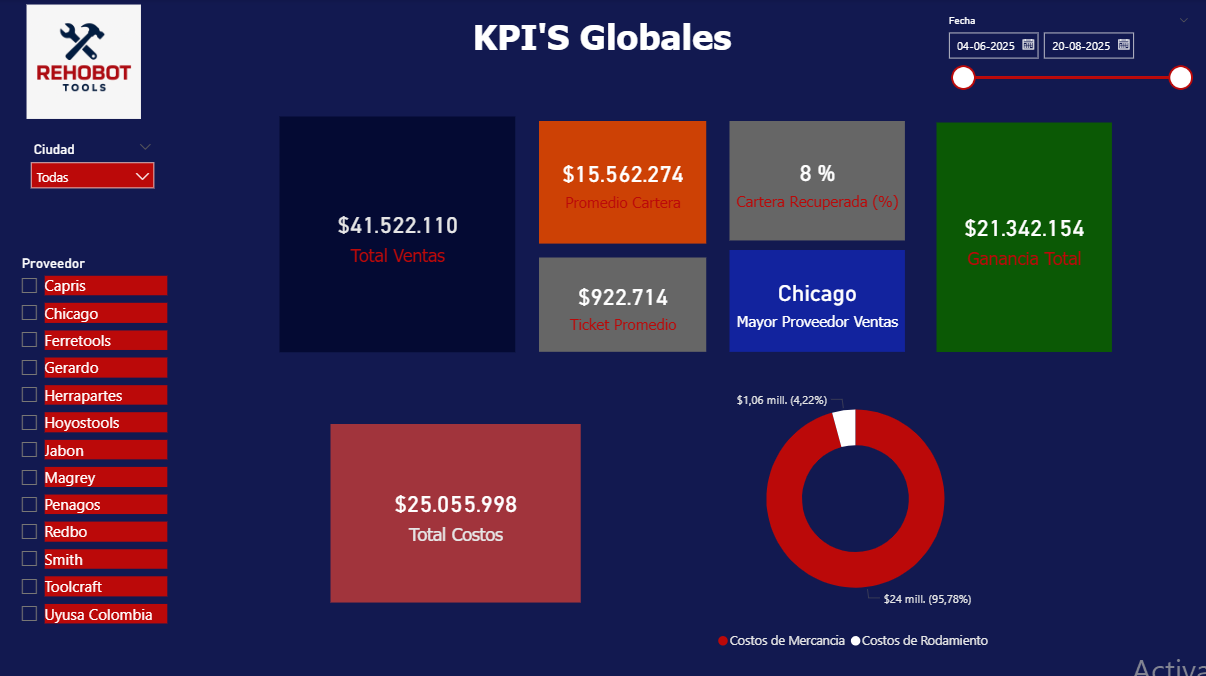

The dashboard page shown, as its layout file describes it:
{"tool":"powerbi","page":{"name":"KPI'S","canvas":[1280,720],"ordinal":0},"visuals":[{"type":"image","box":[23.7,1.7,131.8,131.8],"z":0},{"type":"slicer","fields":{"Values":["Calendario.Fecha"]},"box":[994.1,12.7,279.9,90.7],"z":2000},{"type":"card","fields":{"Values":["Medidas.Proveedor_MayorVentas"]},"box":[774.1,267,185.9,108.2],"z":3000},{"type":"slicer","fields":{"Values":["Ventas_Diarias.Proveedor"]},"box":[11.8,267,172.4,419.2],"z":4000},{"type":"slicer","fields":{"Values":["Ventas_Diarias.Ciudad"]},"box":[23.7,147,150.4,69.3],"z":5000},{"type":"card","fields":{"Values":["Medidas.Ticket_Promedio"]},"box":[573,275.5,177.5,99.7],"z":6000},{"type":"card","fields":{"Values":["Medidas.Total_Ventas"]},"box":[296.9,125.6,250.1,250.1],"z":7000},{"type":"card","fields":{"Values":["Medidas.Ganancia Total"]},"box":[993.8,131.8,185.9,243.4],"z":8000},{"type":"card","fields":{"Values":["Medidas.Cartera Recuperada (%)"]},"box":[774.1,130.1,185.9,126.8],"z":9000},{"type":"card","fields":{"Values":["Medidas.Promedio Cartera"]},"box":[572.4,130.7,177.5,130.1],"z":10000},{"type":"donutChart","fields":{"Y":["Medidas.Costos de Mercancia","Medidas.Costos de Rodamiento"]},"box":[740.3,390.4,336.3,311],"z":11000},{"type":"card","fields":{"Values":["Medidas.Total Costos"]},"box":[351.6,451.3,265.4,189.3],"z":12000},{"type":"textbox","box":[475.6,12.7,327.7,77.9],"z":13000}]}

Visuals, with their boxes on the page's 1280x720 design canvas (x1, y1, x2, y2). These are canvas units, not pixel positions in the 1206x676 screenshot, which may show the page scaled, cropped or inside an application window:
image: box=[24, 2, 156, 134]
slicer - Calendario.Fecha: box=[994, 13, 1274, 103]
card - Medidas.Proveedor_MayorVentas: box=[774, 267, 960, 375]
slicer - Ventas_Diarias.Proveedor: box=[12, 267, 184, 686]
slicer - Ventas_Diarias.Ciudad: box=[24, 147, 174, 216]
card - Medidas.Ticket_Promedio: box=[573, 276, 750, 375]
card - Medidas.Total_Ventas: box=[297, 126, 547, 376]
card - Medidas.Ganancia Total: box=[994, 132, 1180, 375]
card - Medidas.Cartera Recuperada (%): box=[774, 130, 960, 257]
card - Medidas.Promedio Cartera: box=[572, 131, 750, 261]
donutChart - Medidas.Costos de Mercancia x Medidas.Costos de Rodamiento: box=[740, 390, 1077, 701]
card - Medidas.Total Costos: box=[352, 451, 617, 641]
textbox: box=[476, 13, 803, 91]
